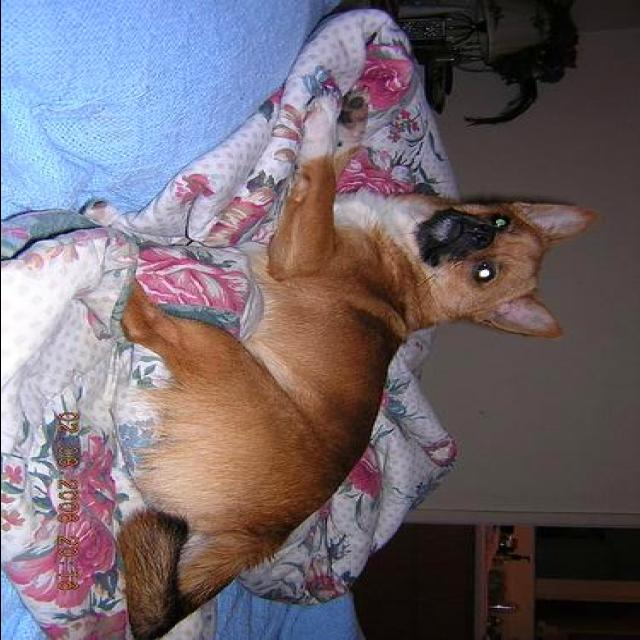chihuahua: (114, 86, 598, 638)
